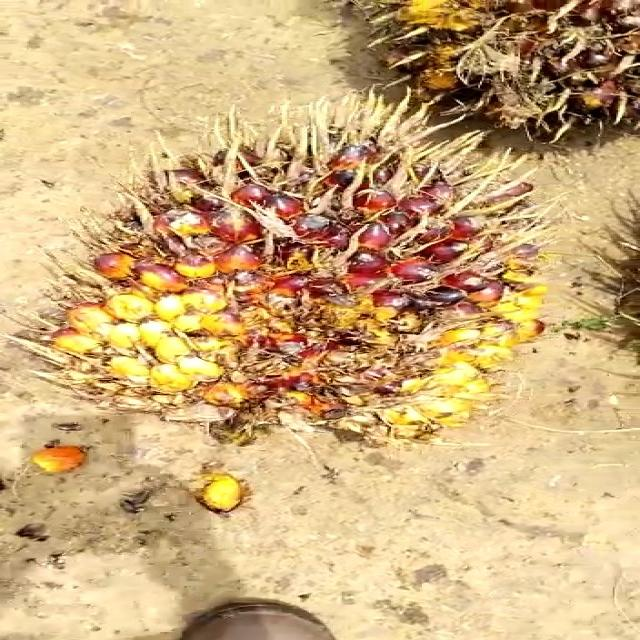palm oil: (41, 110, 604, 484)
